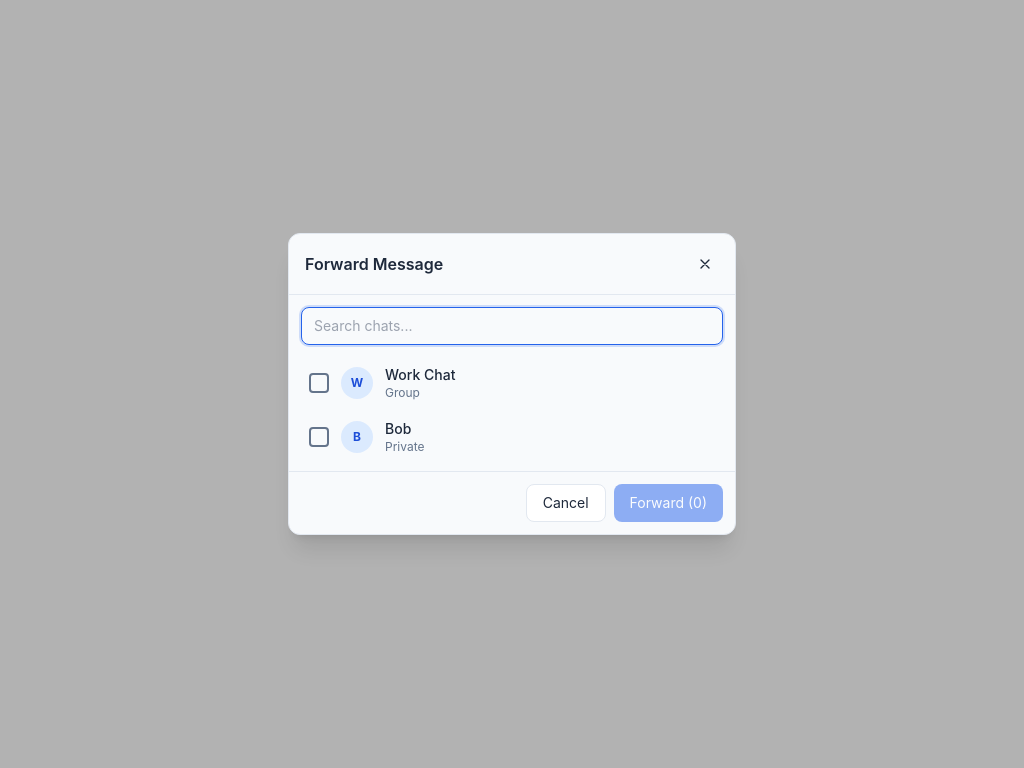
Test: ForwardModal › FORWARD-WEB-07: should show empty state when no sessions match
Type "ZZZZZZ" into the field with placeholder "Search chats..." at [512, 326], box top-left (301, 307), bottom-right (723, 345)
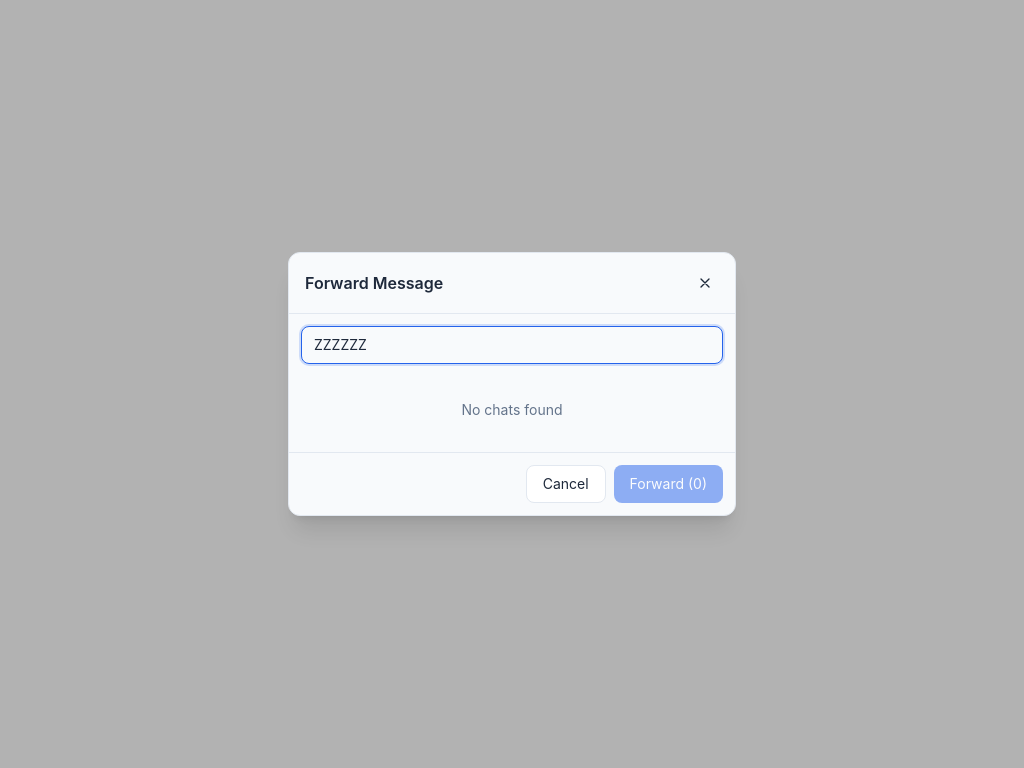
Expected: the text "No chats found" is shown, top-left (462, 401), bottom-right (563, 418)
